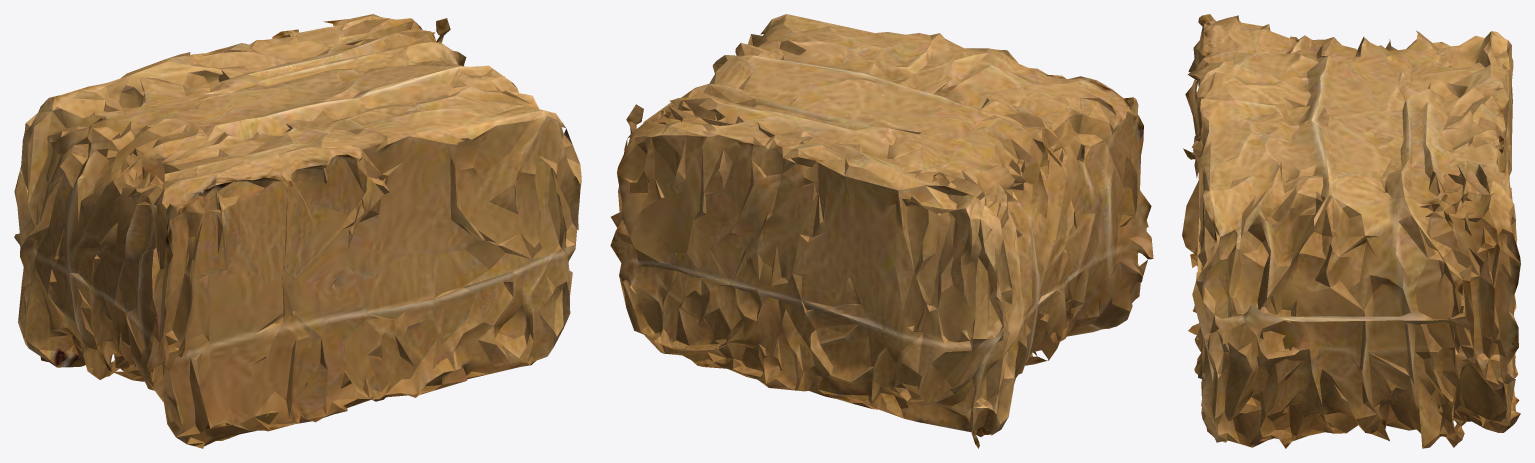
Rendered from haybale.glb.
3 renders of one model, left to right at view 1: azimuth 30°, elevation 25°; view 2: azimuth 150°, elevation 25°; view 3: azimuth 270°, elevation 25°, orthographic. The views are drawn at different scales.
Visible parts, largest first — view 1: output_unwrapped; view 2: output_unwrapped; view 3: output_unwrapped.
Part boxes in pixels (bbox=[...]): output_unwrapped: bbox=[14, 14, 581, 448]; output_unwrapped: bbox=[610, 14, 1153, 448]; output_unwrapped: bbox=[1182, 14, 1520, 448].
Size of the model in its own units: 1.97 by 1.23 by 1.32.
Materials: 1 (1 with a texture image).
